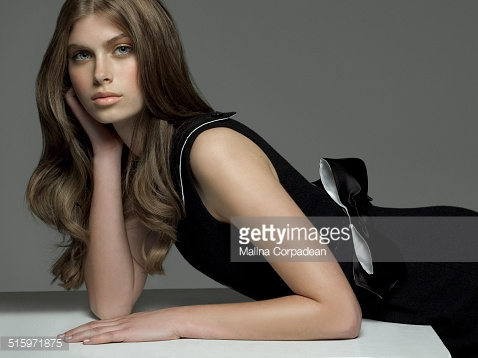deitado: (10, 0, 399, 352)
